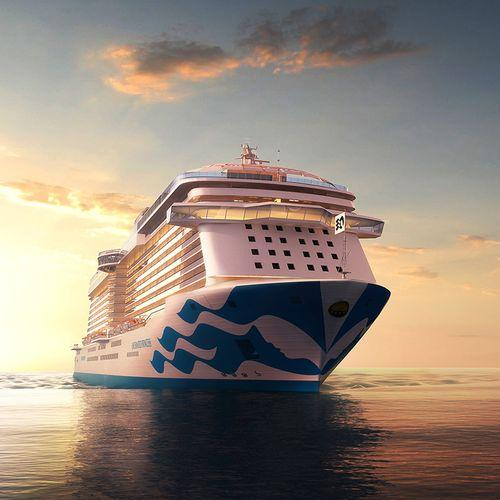Ship: (66, 160, 417, 402)
